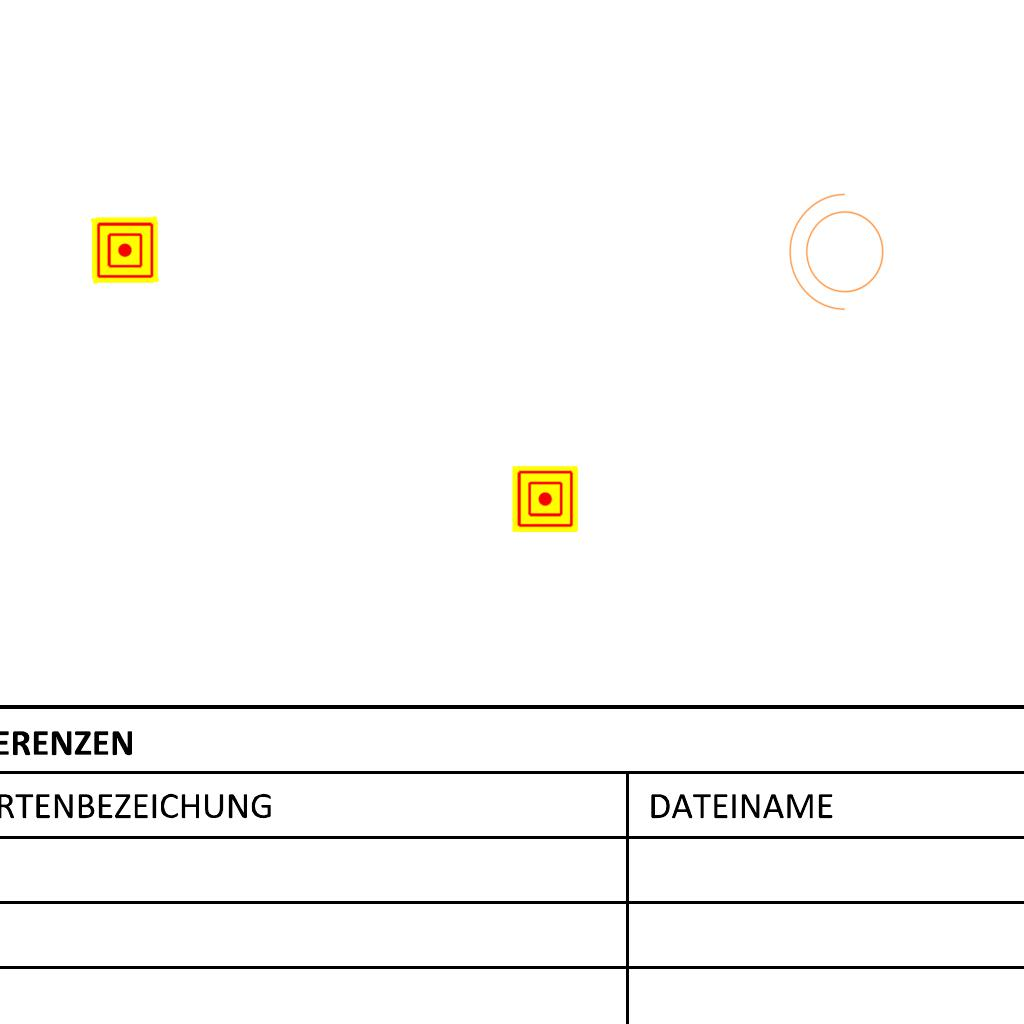NAM-Nichtautomatischer_Melder: (91, 216, 159, 284), (512, 466, 578, 532)
Scheinwerfer_fuer_Alarmbeleuchtung: (784, 189, 896, 321)
